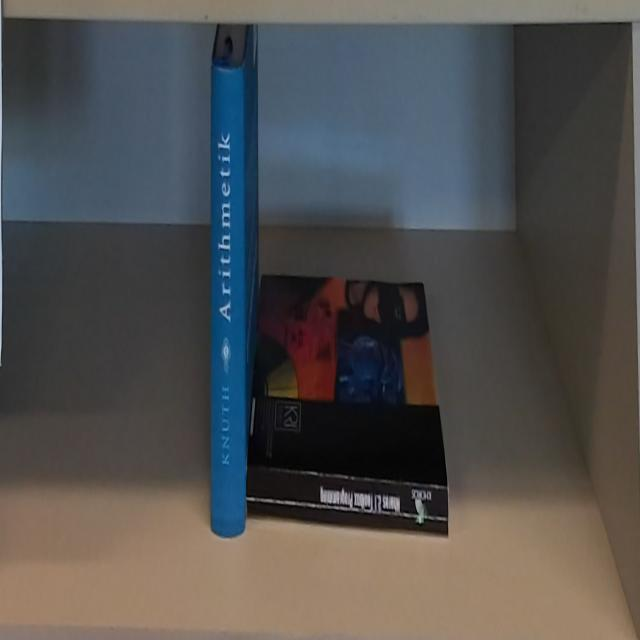Book Spine: (209, 65, 246, 541), (242, 461, 453, 542)
